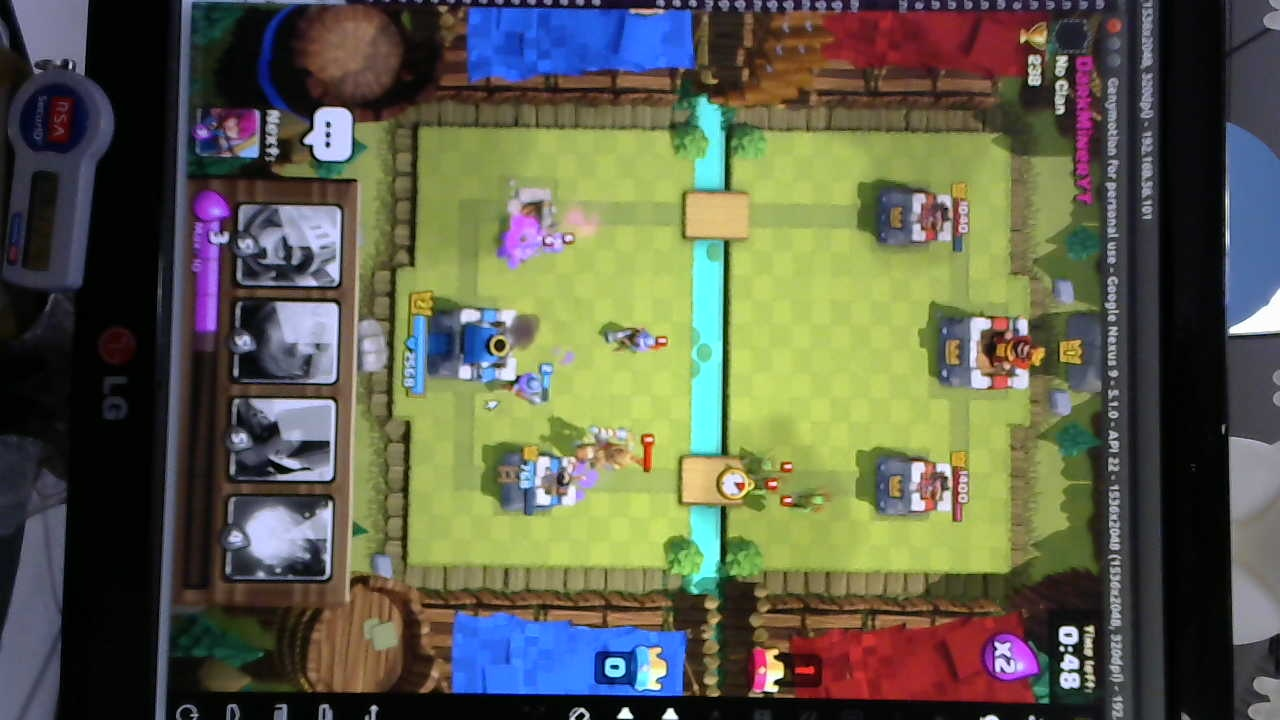arena: (499, 444, 582, 515)
earena: (872, 453, 953, 518), (876, 190, 962, 250)
eking: (940, 313, 1039, 390)
king: (428, 304, 528, 387)
musketeer: (596, 323, 657, 358), (501, 369, 544, 408)
prince: (578, 426, 640, 473)
skeleton: (519, 230, 584, 259)
speargoblins: (740, 453, 819, 515)
